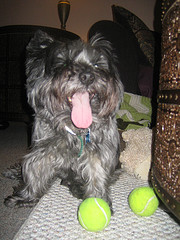tennis ball: (74, 192, 112, 234), (125, 182, 167, 220)
